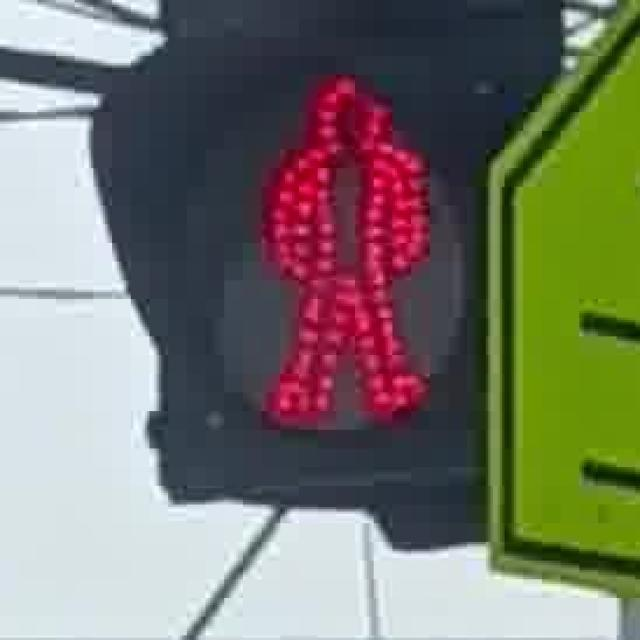red-crossing: (243, 51, 441, 442)
